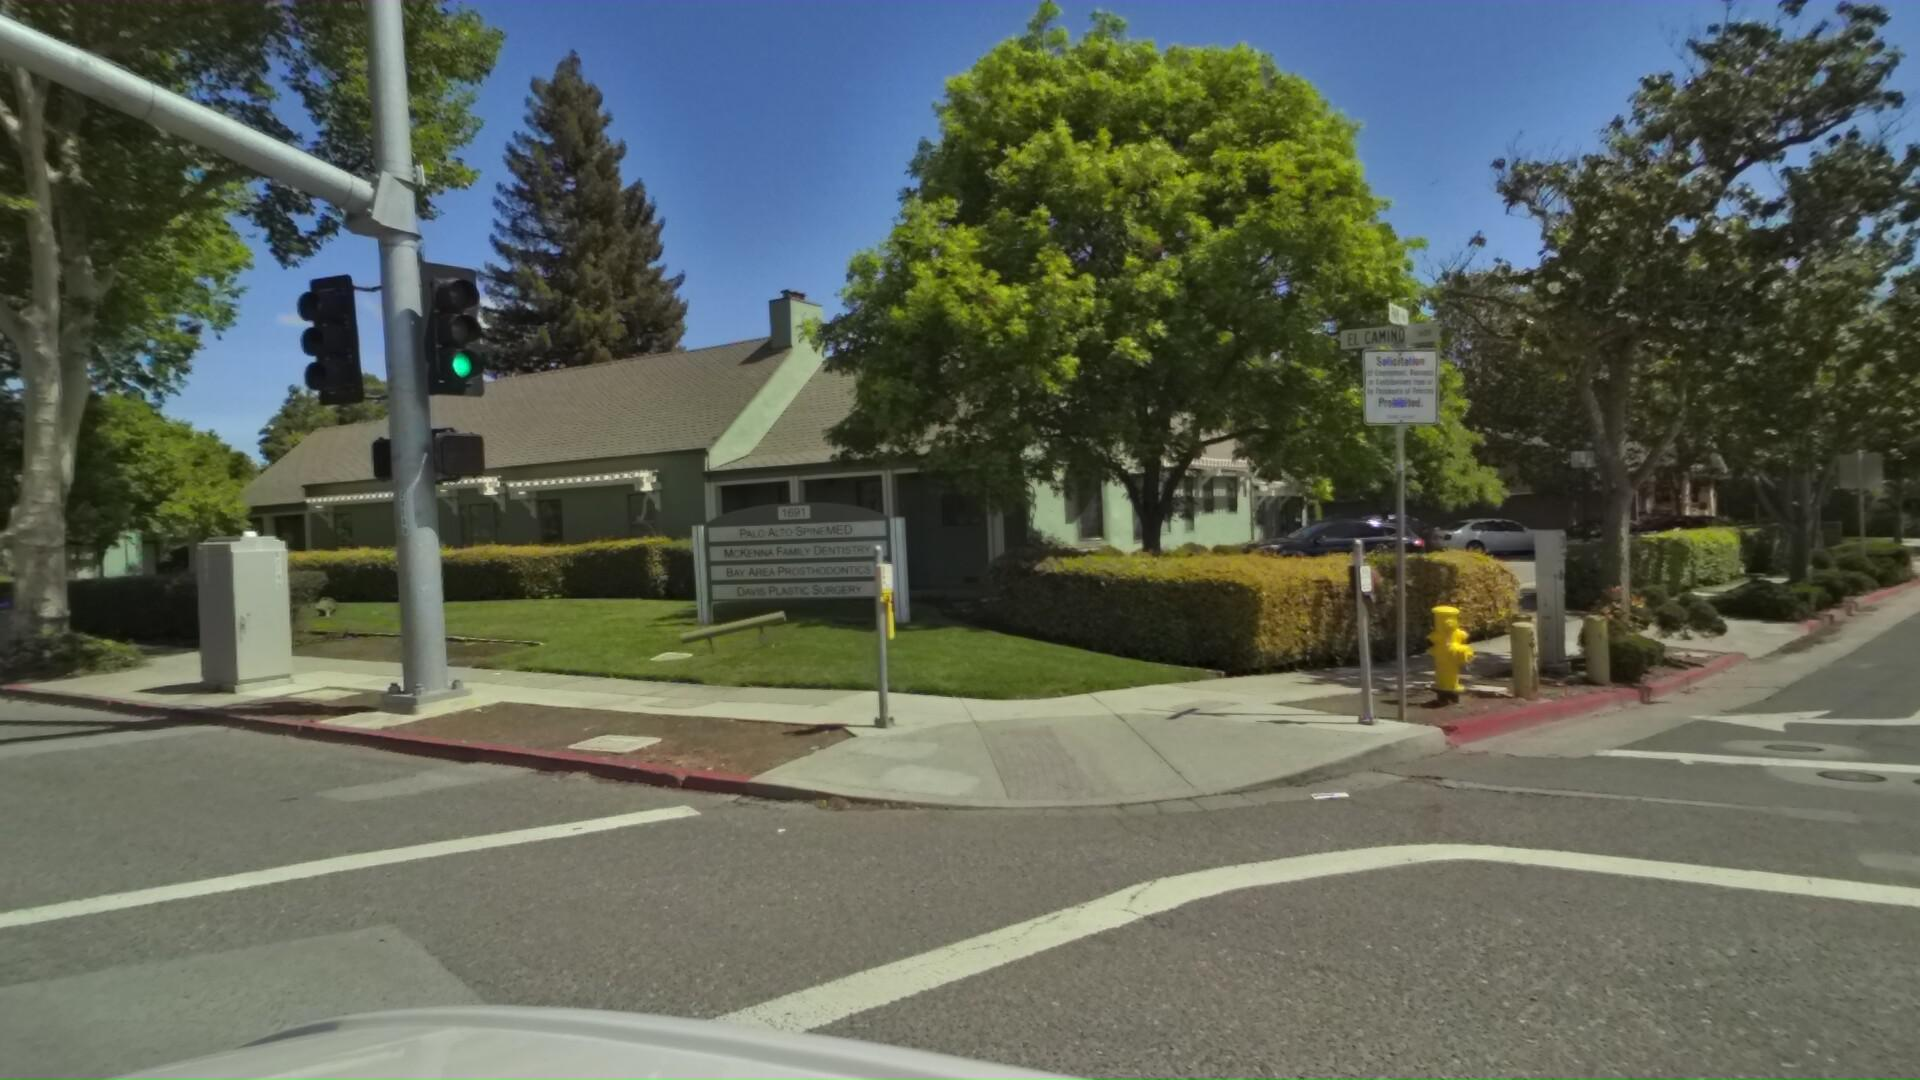car: (1241, 506, 1455, 589), (1531, 510, 1683, 554)
